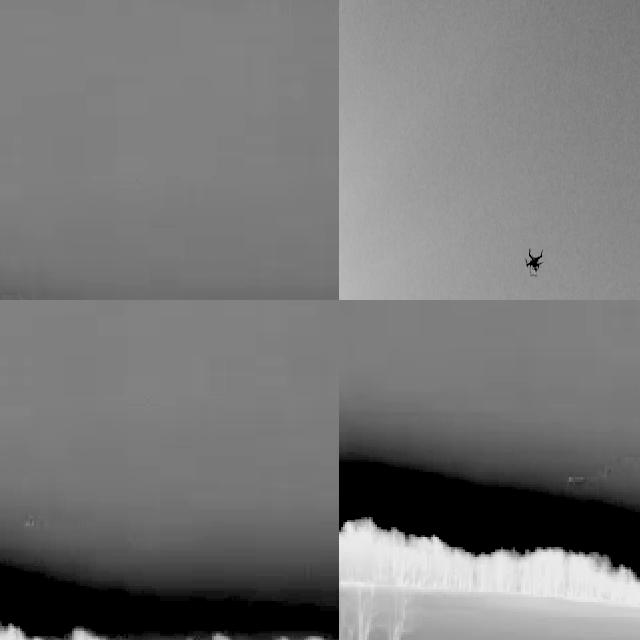0: (559, 467, 589, 497), (17, 512, 43, 545)
drone: (521, 242, 547, 282)
